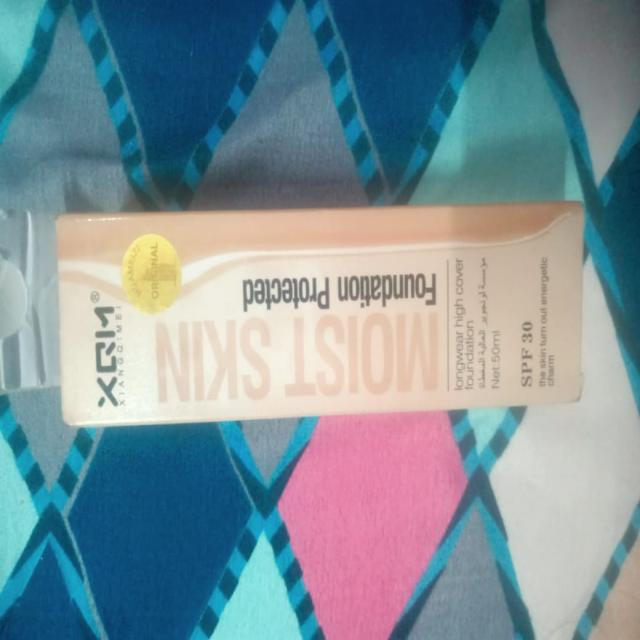foundation: (41, 167, 612, 469)
